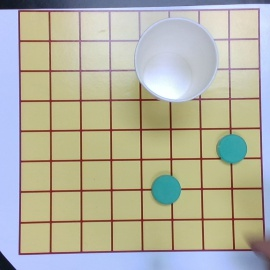cup: (134, 17, 219, 103)
green: (218, 135, 247, 164), (152, 176, 182, 204)
